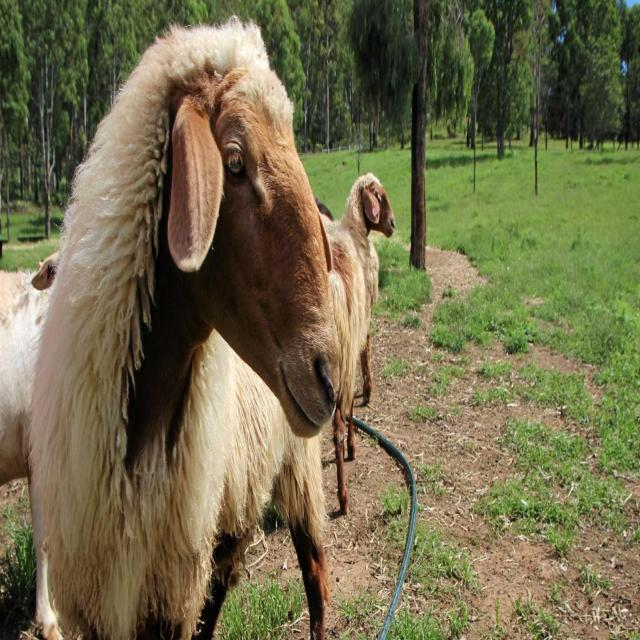Sheep: (31, 19, 338, 639), (341, 169, 394, 411)
